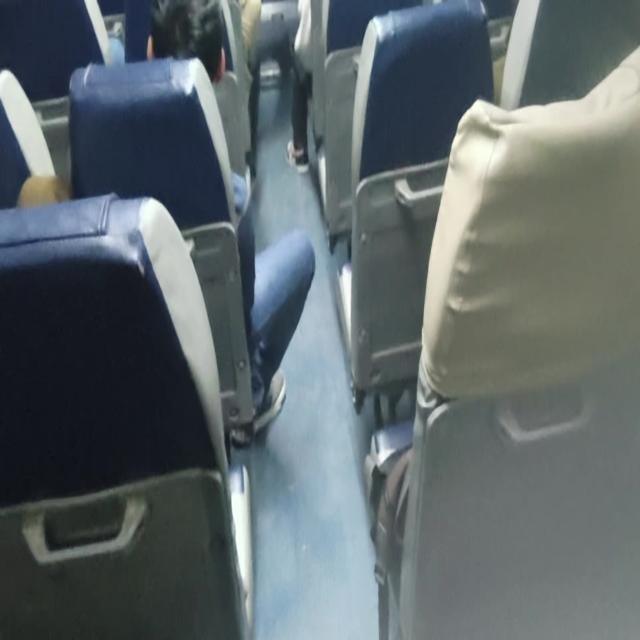person: (138, 0, 236, 89)
